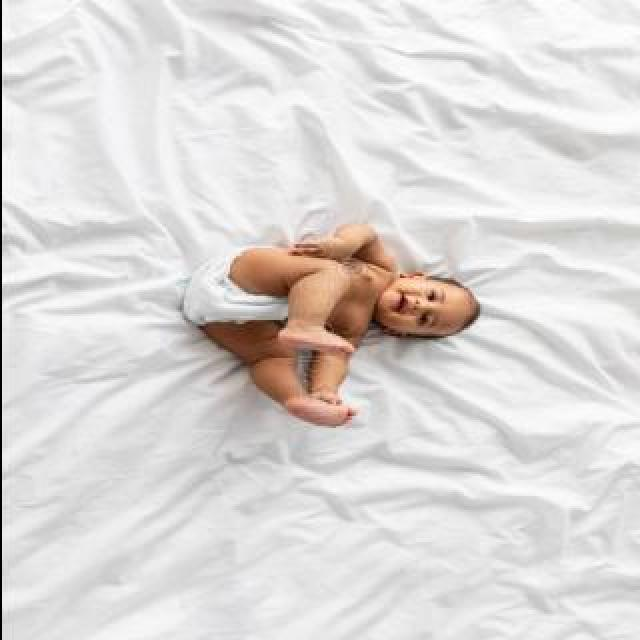baby: (182, 224, 486, 424)
